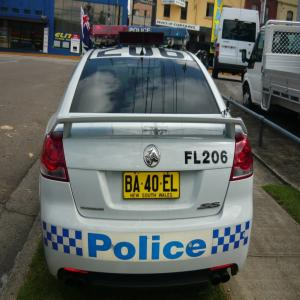Vehicle-registration-plate: (124, 172, 181, 201)
